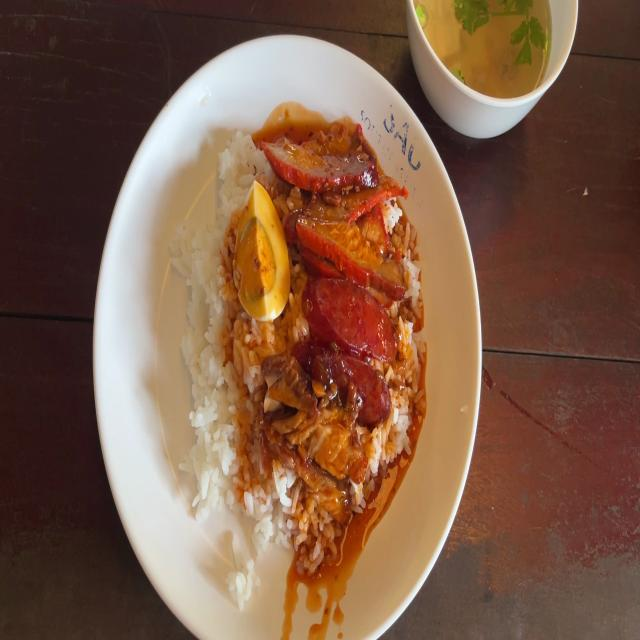red_pork_and_crispy_pork: (240, 196, 288, 316)
stir_fried_basil: (310, 285, 401, 407)
